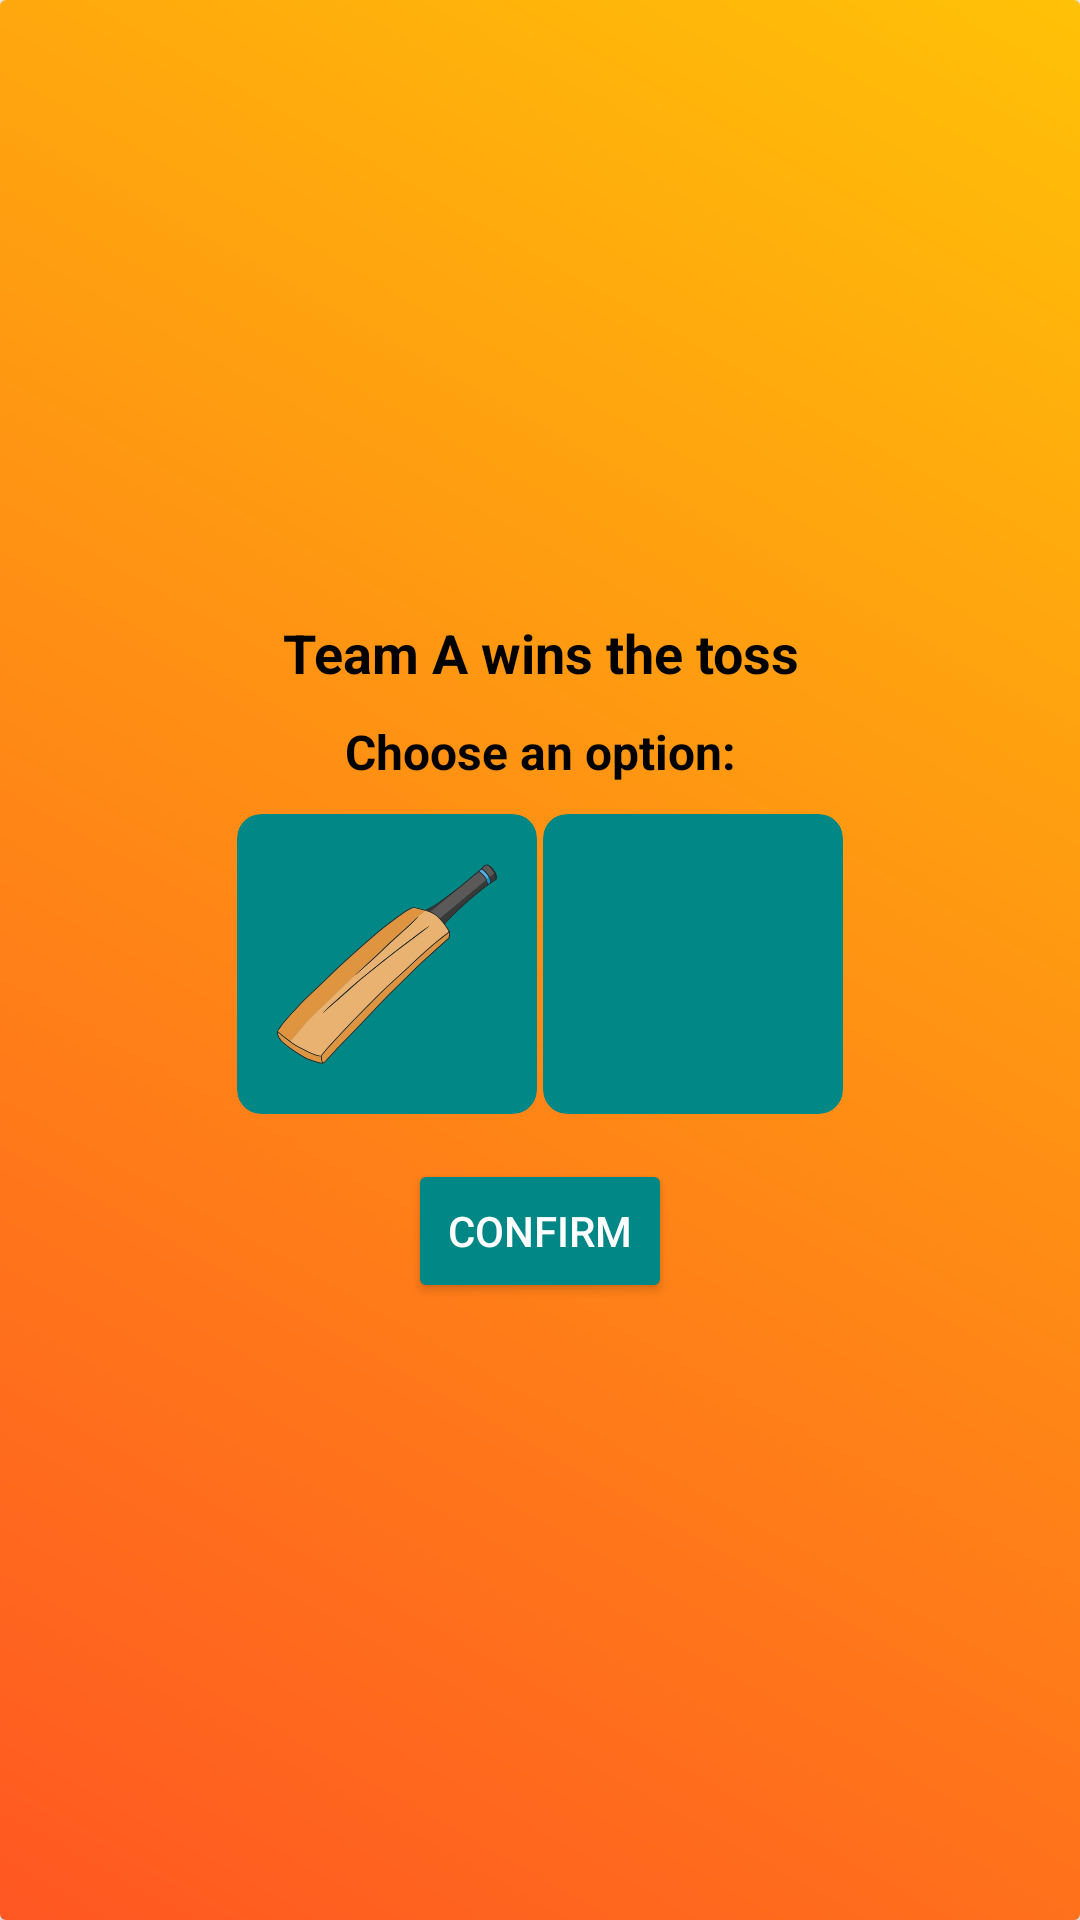

Icons on this 1080x1920 Android screen, each with its box as (x1, y1, x2, y2):
Batting: (237, 814, 537, 1114)
